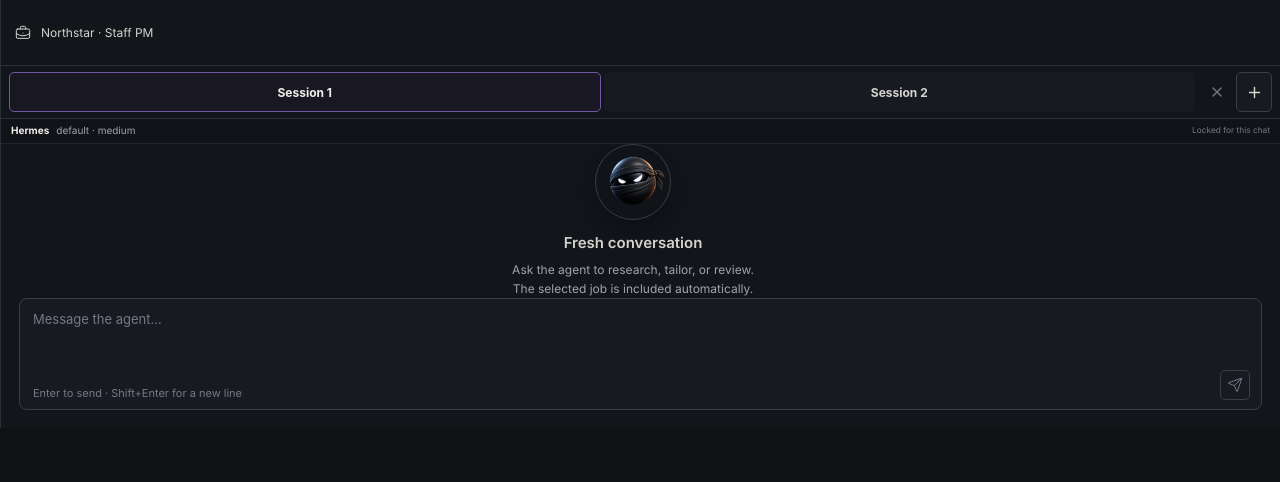
it: close stays disabled across the pending send response gap
The width and height of the screenshot is (1280, 482).
Type "Pending message" into the text box labelled "Message the agent".
click(642, 340); type("Pending message")  # box x1=33 y1=310 x2=1250 y2=370
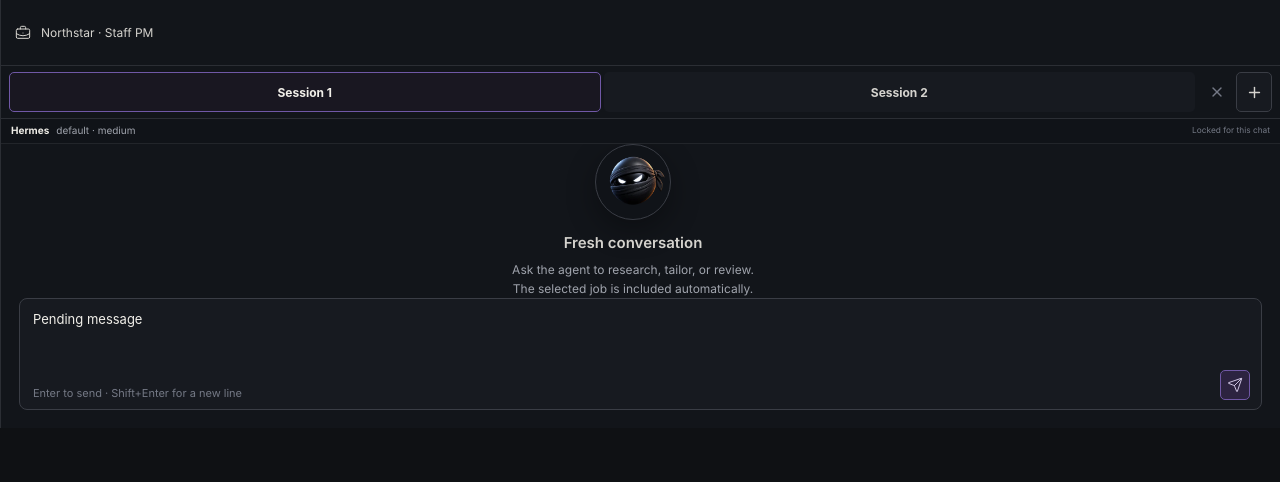
Result: the button named "Send message" is enabled
Click the button named "Send message".
click(1235, 385)  # box x1=1220 y1=370 x2=1250 y2=400
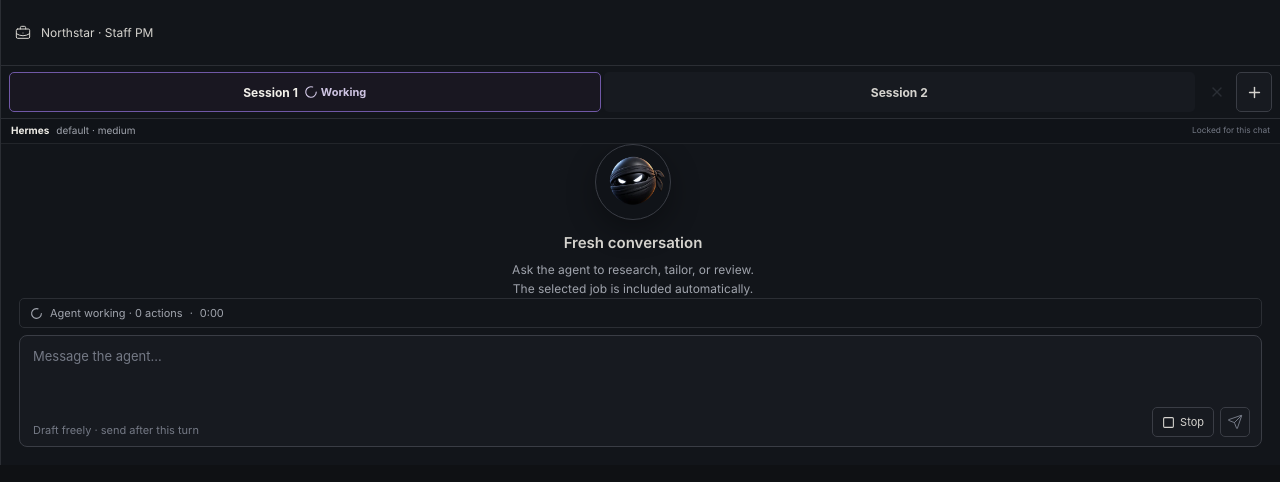
Result: the button named "Close Session 1" is disabled at x1=1201 y1=72 x2=1232 y2=112
